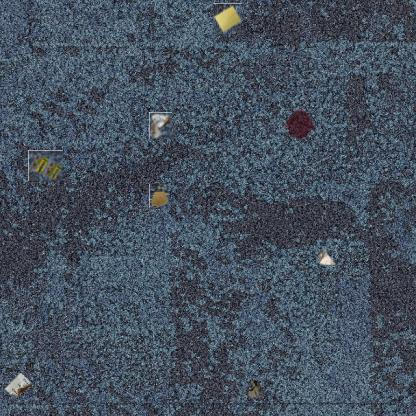dirty: (28, 150, 63, 181), (212, 3, 242, 34), (4, 372, 33, 401), (148, 113, 173, 138), (245, 379, 266, 399), (317, 247, 337, 267)
liquid: (285, 110, 316, 141), (149, 184, 170, 208)
